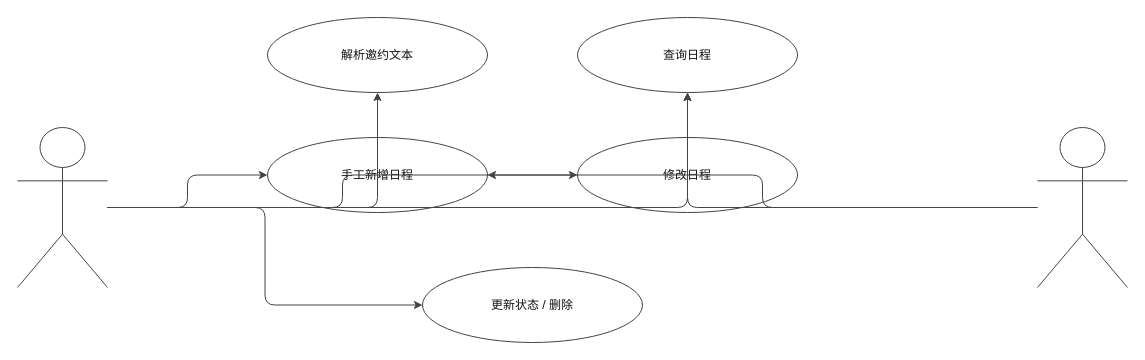
The diagram is 1145 pixels wide and 360 high, and some of its shapes have lost their labels. The centre of each missing label's shape, as x and y in pixels:
求职者: the point at 62,207
系统: the point at 1082,207
